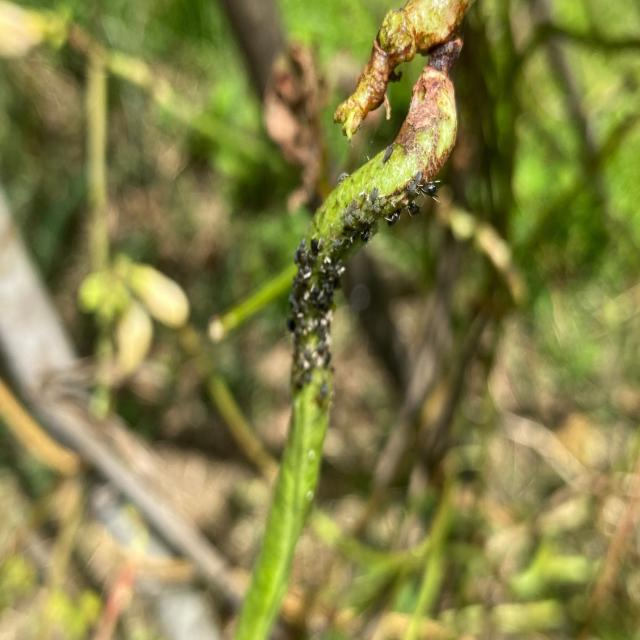sitaw-aphid-moderate: (235, 35, 462, 640)
